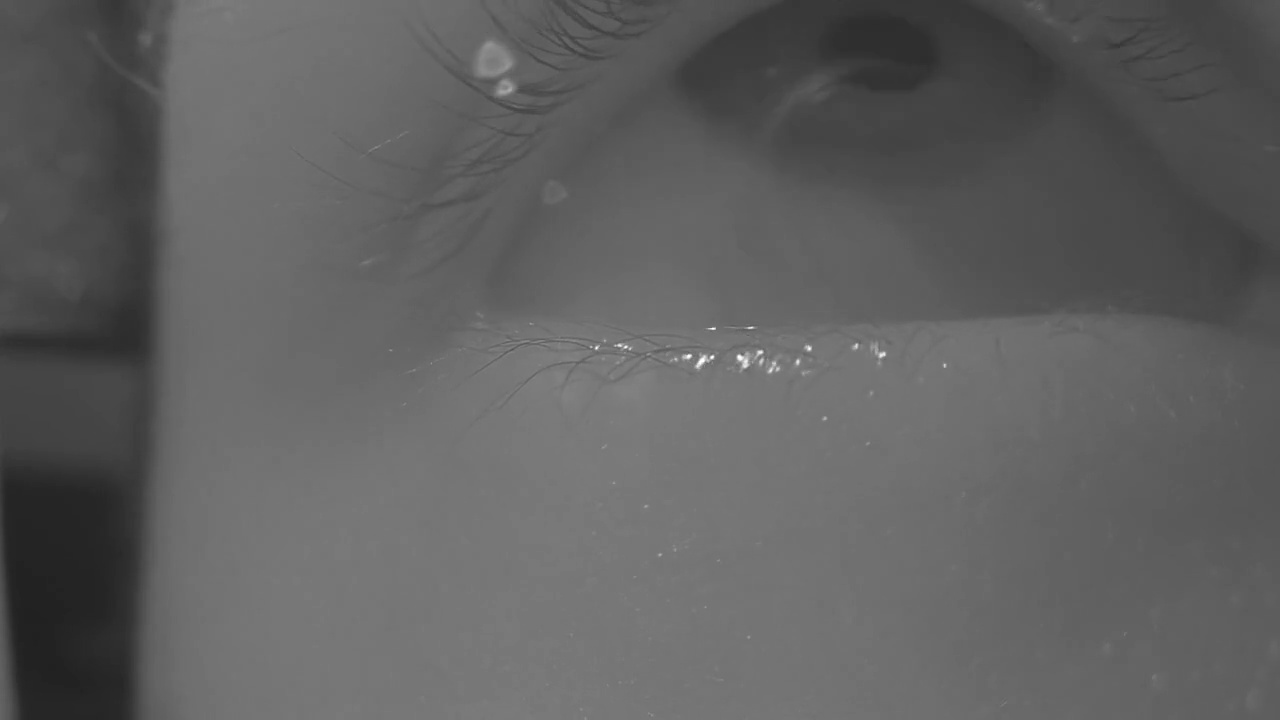pupil: (824, 11, 934, 92)
